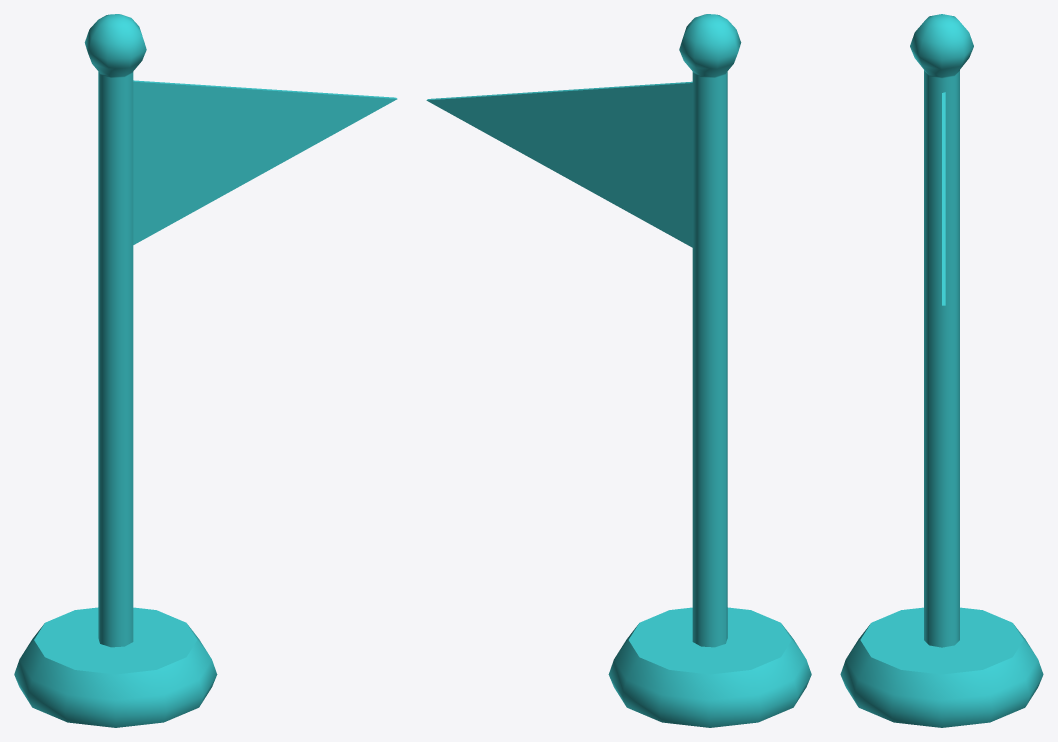
The model's file is Player-Position-Flag-Tri.fbx.
3 renders of one model, left to right at view 1: azimuth 30°, elevation 25°; view 2: azimuth 150°, elevation 25°; view 3: azimuth 270°, elevation 25°, orthographic.
Visible parts, largest first — view 1: Player-Position-Flag-Tri; view 2: Player-Position-Flag-Tri; view 3: Player-Position-Flag-Tri.
Part boxes in pixels (bbox=[...]): Player-Position-Flag-Tri: bbox=[14, 14, 397, 727]; Player-Position-Flag-Tri: bbox=[426, 14, 811, 727]; Player-Position-Flag-Tri: bbox=[840, 14, 1043, 727].
Bounding box in the file's own units: 200 × 347 × 95.24.
1 material, 1 textured.
